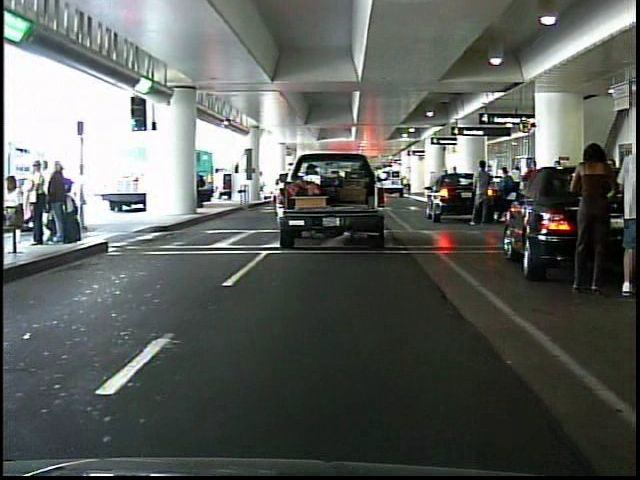person: (566, 134, 617, 298), (466, 154, 497, 231), (621, 125, 633, 291), (491, 163, 516, 230)
